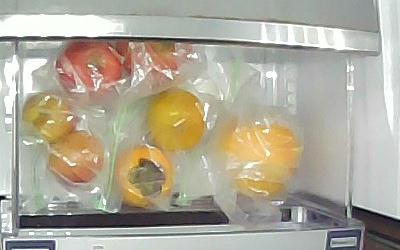apple_vinyl: (54, 41, 122, 102), (116, 41, 191, 80)
grapefruit_vinyl: (217, 121, 299, 195)
persimmon_vinyl: (145, 89, 206, 153), (114, 145, 175, 208)
prune_vinyl: (46, 131, 104, 185), (22, 91, 76, 144)
